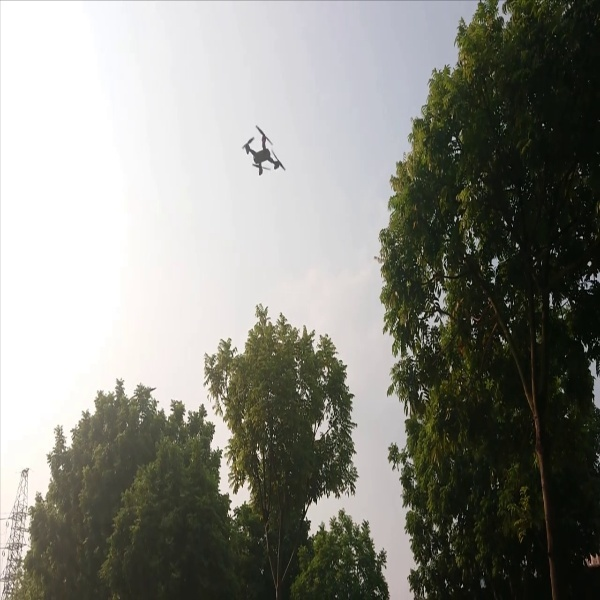drone: (235, 119, 292, 190)
